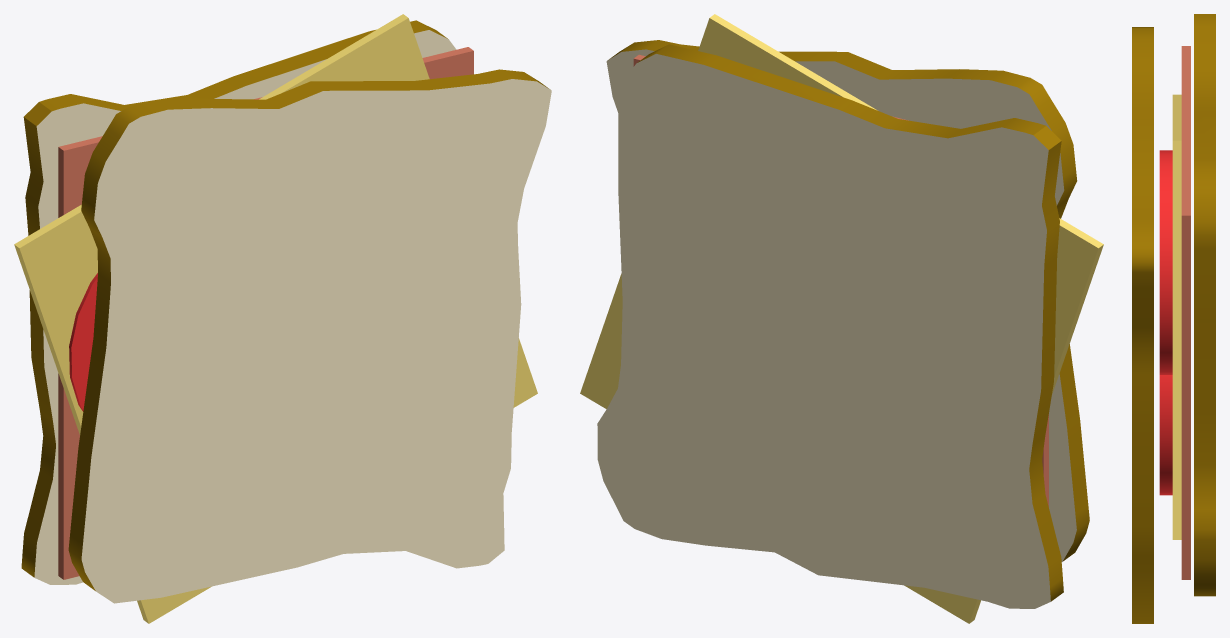
3 views of the same model, side by side, from view 1: azimuth 30°, elevation 25°; view 2: azimuth 150°, elevation 25°; view 3: azimuth 270°, elevation 25° (orthographic). The views are drawn at different scales.
Parts seen in each view (by area): view 1: basic ham sandwich somewhat low poly; view 2: basic ham sandwich somewhat low poly; view 3: basic ham sandwich somewhat low poly.
Part boxes in pixels (x1=…): basic ham sandwich somewhat low poly: x1=14, y1=14, x2=551, y2=623; basic ham sandwich somewhat low poly: x1=580, y1=14, x2=1103, y2=623; basic ham sandwich somewhat low poly: x1=1132, y1=14, x2=1215, y2=623.
Bounding box in the file's own units: 98.33 × 98.33 × 16.24.
